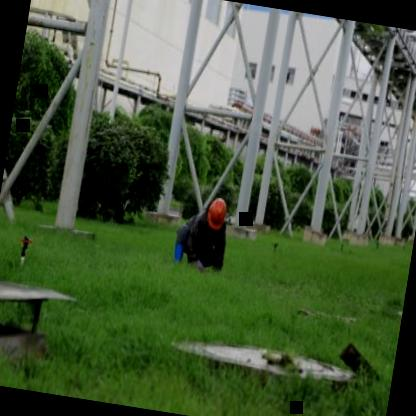helmet: (203, 192, 229, 233)
